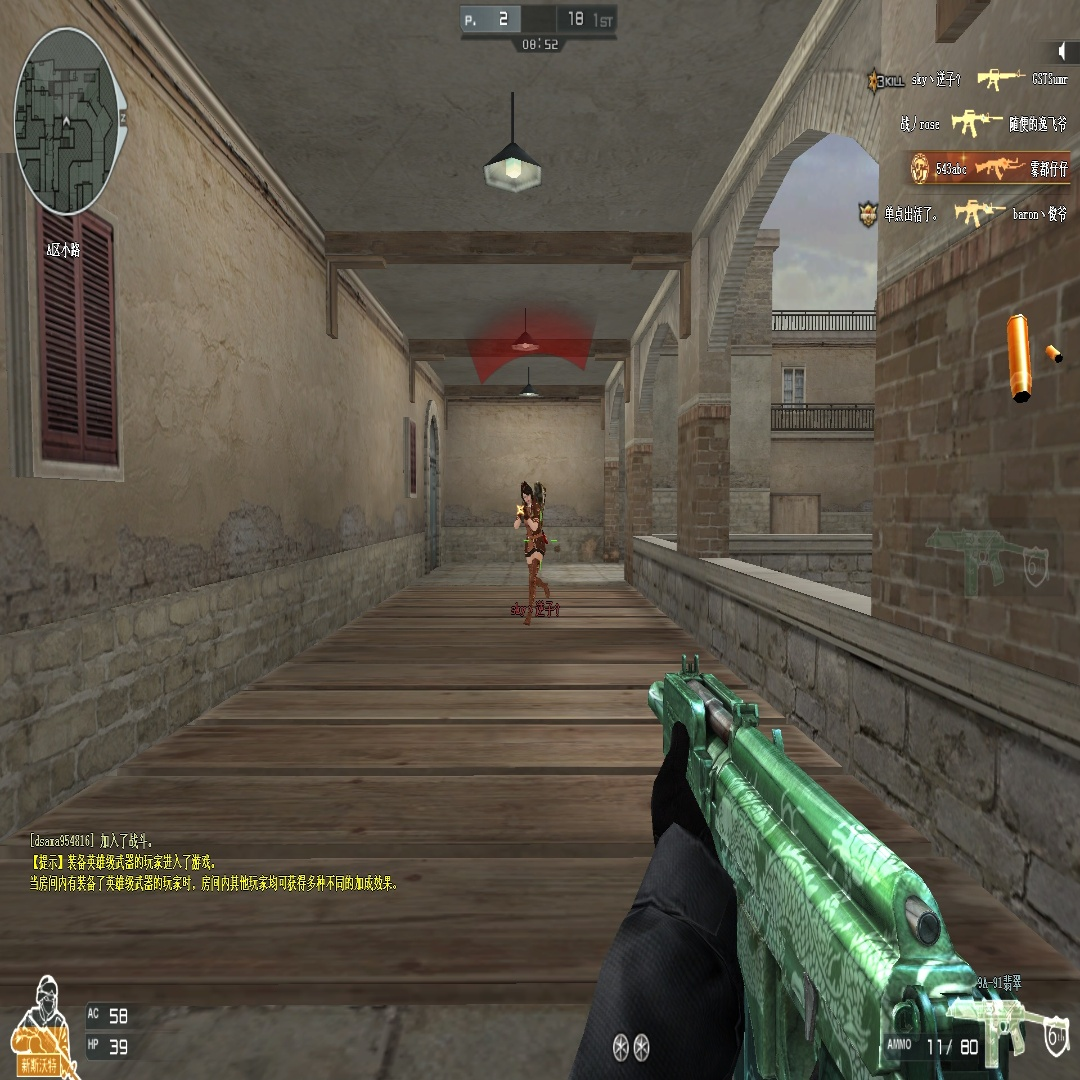head: (520, 481, 533, 506)
p: (513, 482, 557, 616)
